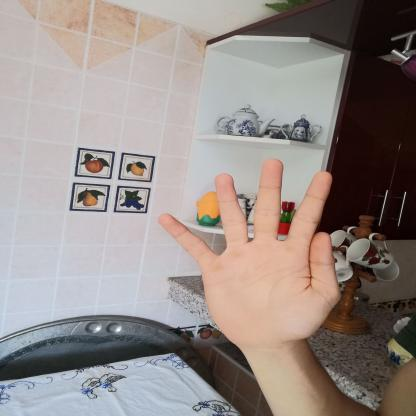SHEEN: (145, 149, 357, 359)
